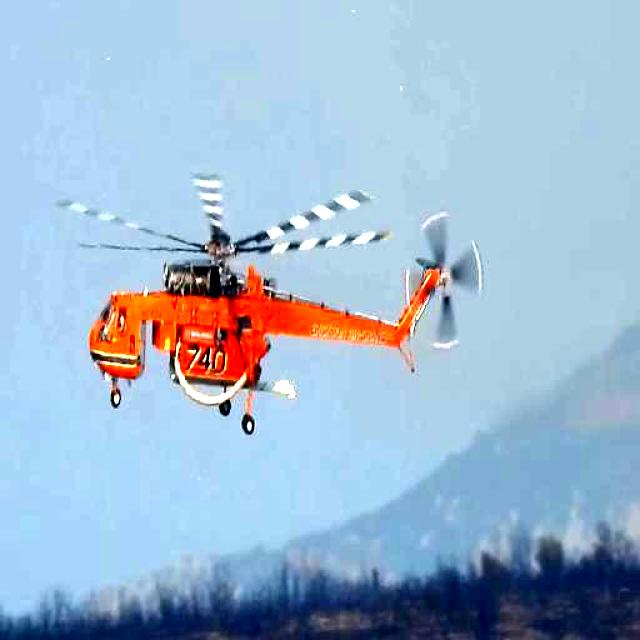drone: (69, 170, 482, 449)
